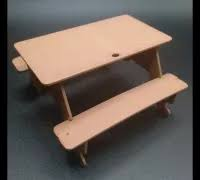obstacle: (9, 10, 191, 174)
